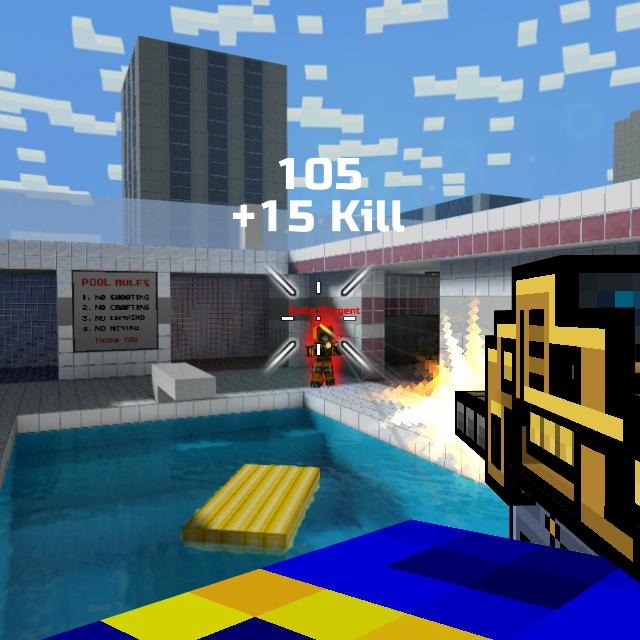Enemy: (305, 325, 342, 387)
